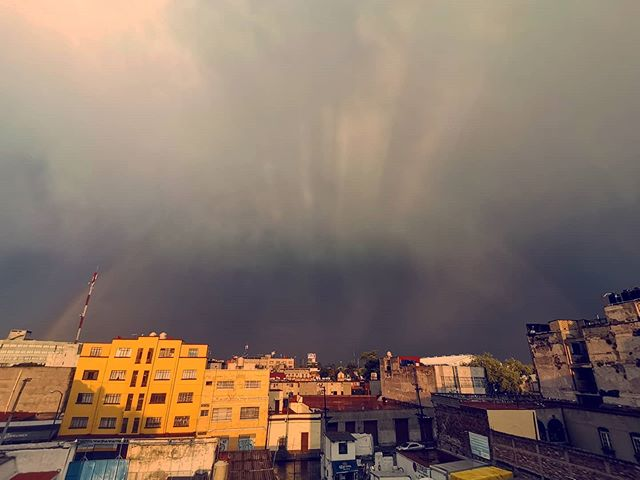building: (520, 292, 640, 480), (276, 357, 440, 480), (379, 354, 517, 463), (78, 329, 202, 435), (1, 330, 79, 438), (201, 360, 273, 448)
sky: (8, 1, 640, 310)
